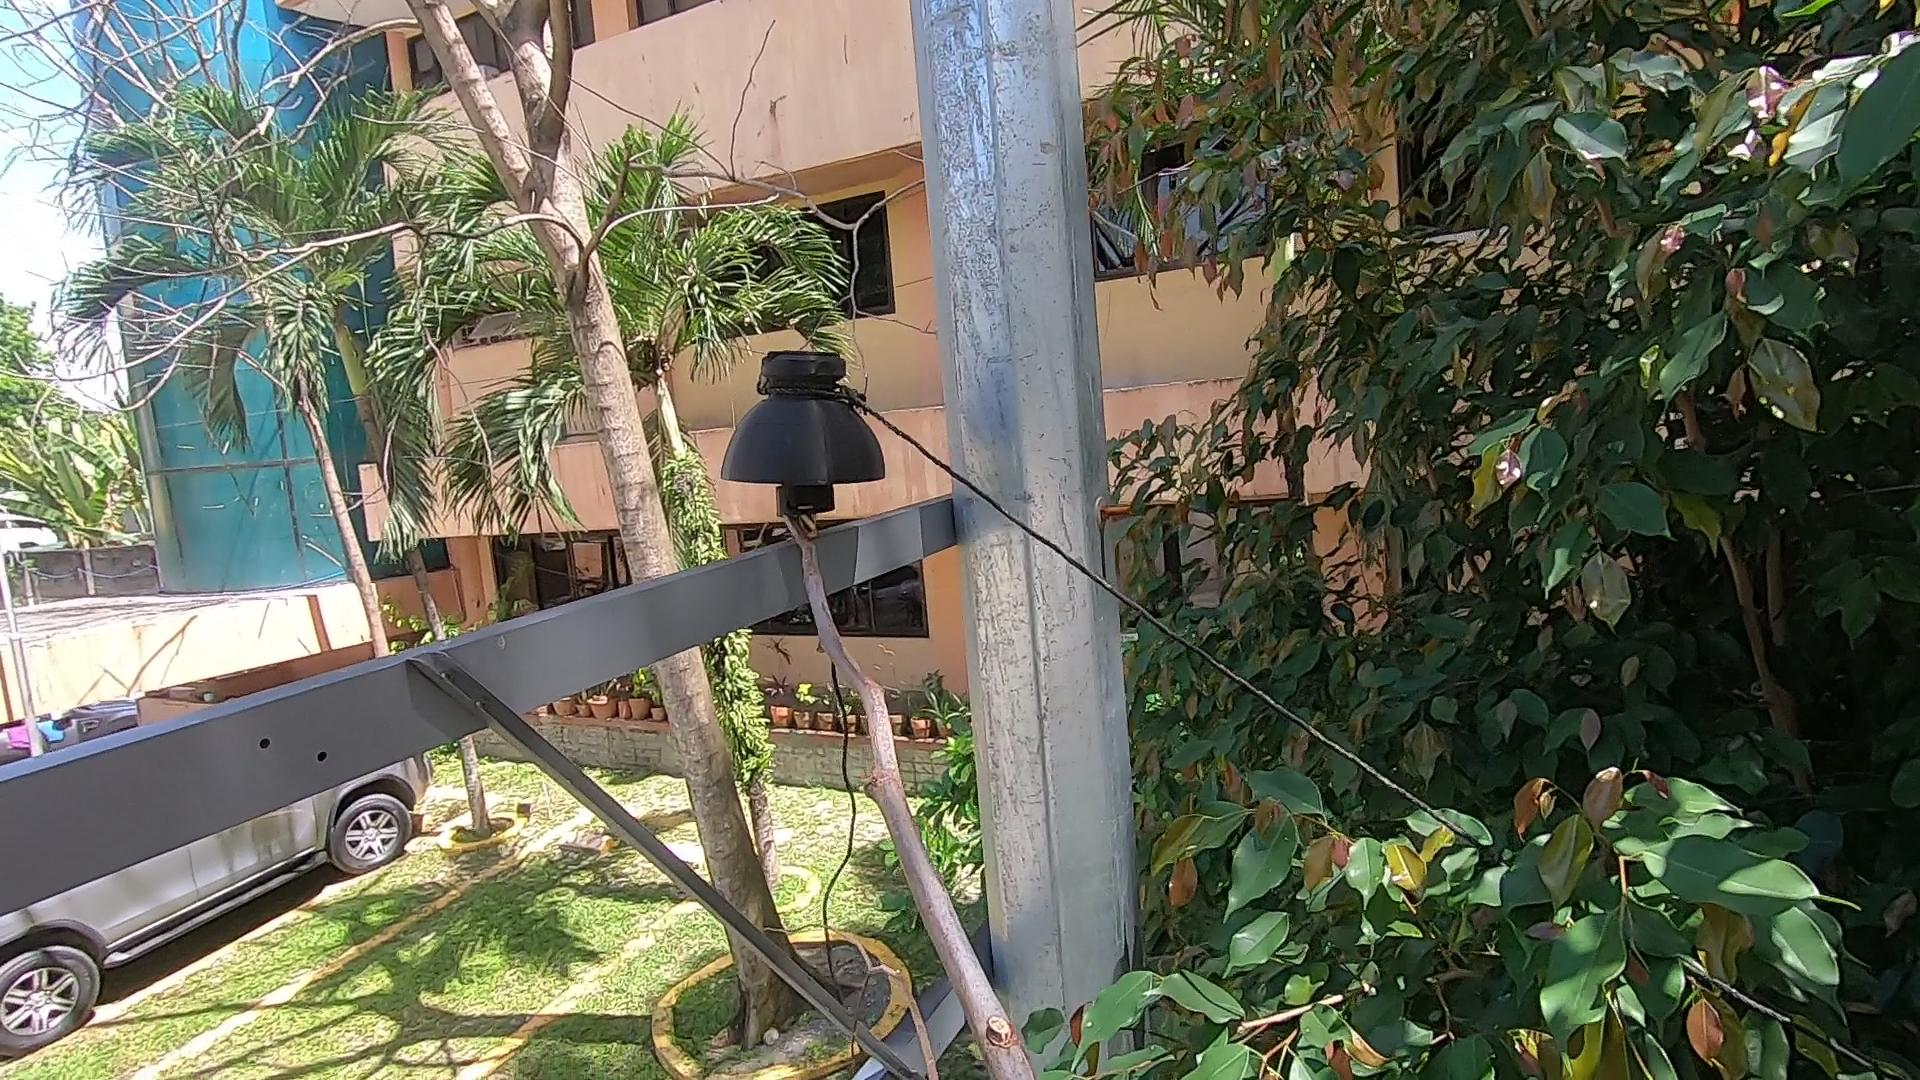branch with leaves: (1022, 975, 1259, 1080)
tree branch: (727, 430, 1051, 1080)
